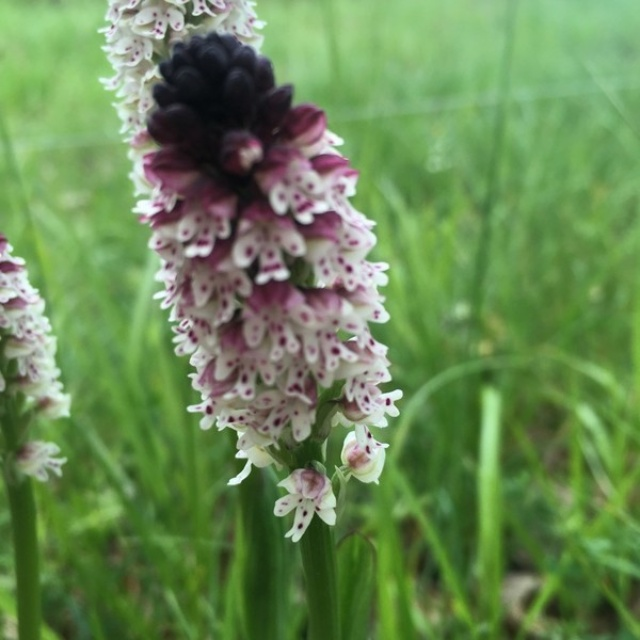obstacle: (125, 17, 589, 574)
